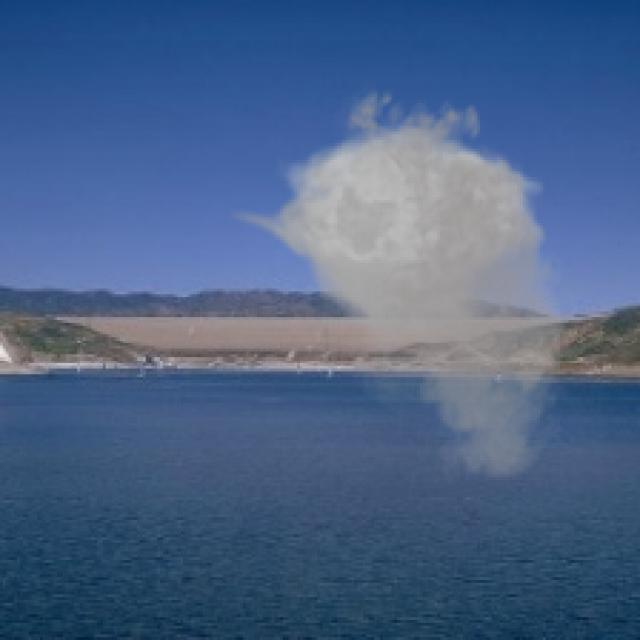smoke: (226, 77, 583, 486)
